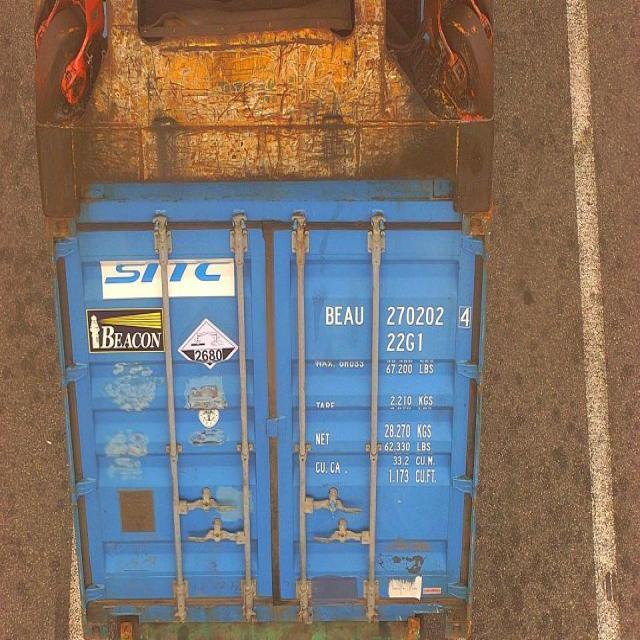ISO: (386, 335, 424, 356)
container_number: (324, 306, 469, 327)
